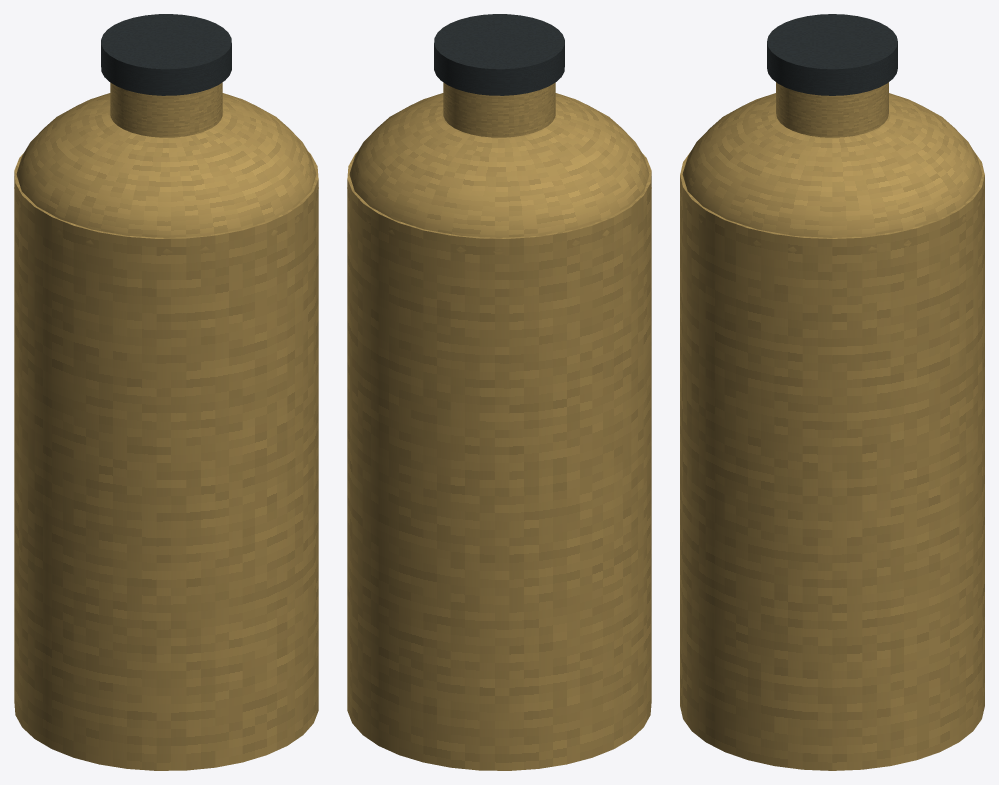
The model's file is seasoning.glb.
3 views of the same model, side by side, from view 1: azimuth 30°, elevation 25°; view 2: azimuth 150°, elevation 25°; view 3: azimuth 270°, elevation 25° (orthographic).
Parts seen in each view (by area): view 1: body, shoulder, cap, neck; view 2: body, shoulder, cap, neck; view 3: body, shoulder, cap, neck.
Boxes of the visible parts, x1=… form: body: x1=14, y1=152, x2=318, y2=770; shoulder: x1=14, y1=93, x2=316, y2=255; cap: x1=101, y1=14, x2=231, y2=95; neck: x1=110, y1=82, x2=222, y2=137; body: x1=347, y1=152, x2=651, y2=770; shoulder: x1=349, y1=93, x2=651, y2=255; cap: x1=434, y1=14, x2=564, y2=95; neck: x1=443, y1=82, x2=555, y2=137; body: x1=680, y1=151, x2=984, y2=770; shoulder: x1=682, y1=93, x2=982, y2=252; cap: x1=767, y1=14, x2=897, y2=95; neck: x1=776, y1=82, x2=888, y2=137.
Size of the model in its own units: 0.054 by 0.13 by 0.054.
Materials: 2 (2 with a texture image).
